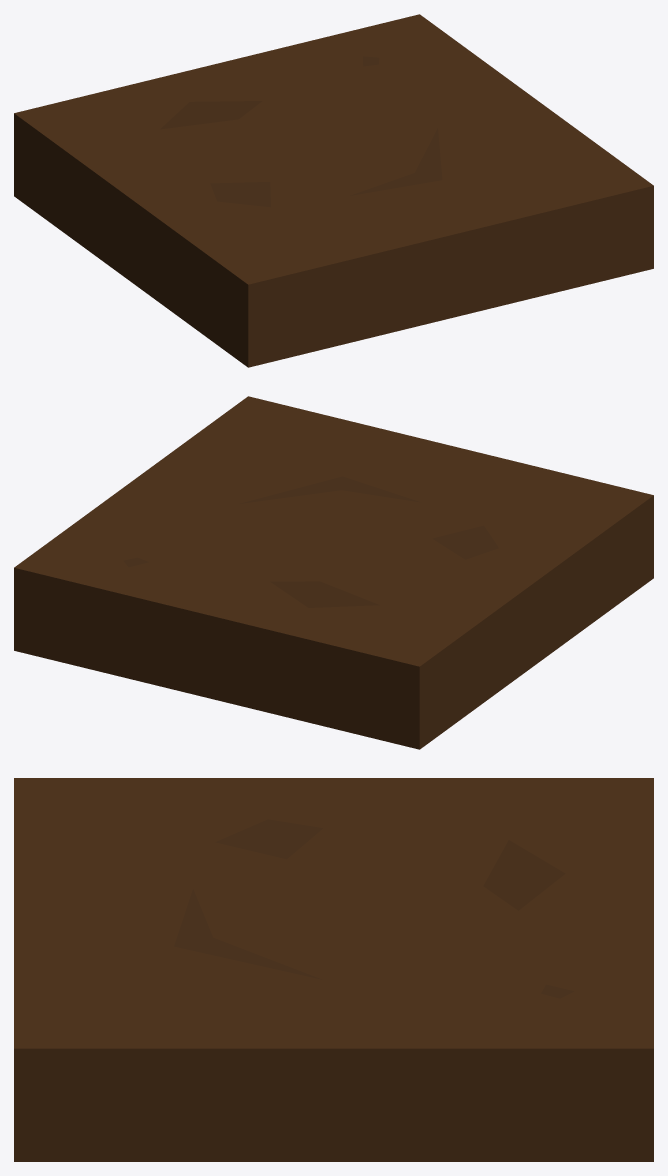
Rendered from Ground_1_3.glb.
3 renders of one model, top to bottom at view 1: azimuth 30°, elevation 25°; view 2: azimuth 150°, elevation 25°; view 3: azimuth 270°, elevation 25°, orthographic. The views are drawn at different scales.
Parts seen in each view (by area): view 1: Ground_1_3; view 2: Ground_1_3; view 3: Ground_1_3.
Boxes of the visible parts, left/top/right/bottom form: Ground_1_3: left=14, top=14, right=653, bottom=367; Ground_1_3: left=14, top=396, right=653, bottom=749; Ground_1_3: left=14, top=778, right=653, bottom=1161.
Size of the model in its own units: 2 by 0.3912 by 2.
Materials: 1 (1 with a texture image).
